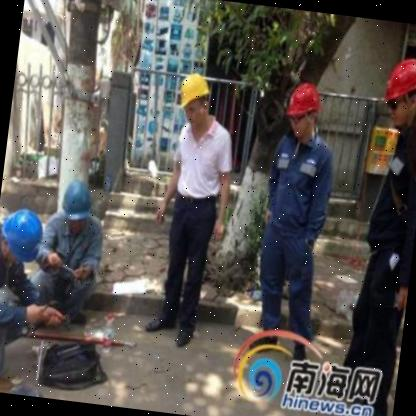bota: (140, 304, 178, 332), (172, 316, 196, 349)
capacete: (0, 206, 46, 270), (379, 54, 416, 132), (280, 78, 323, 142), (56, 178, 94, 235), (175, 71, 212, 129)
